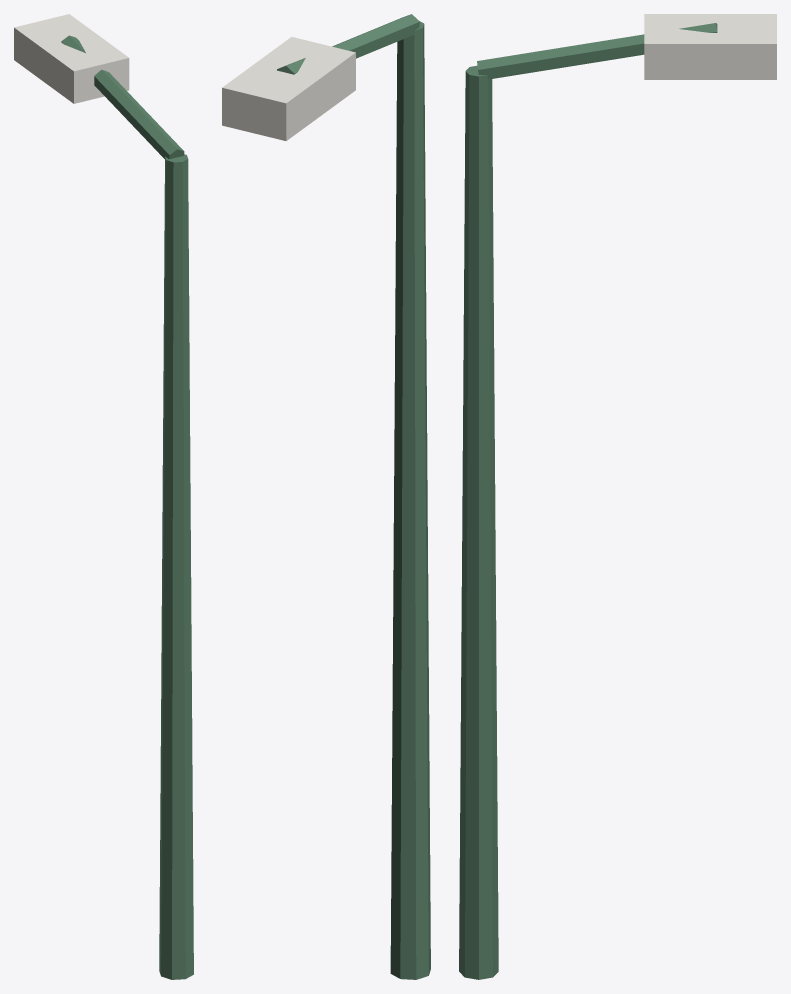
The model's file is LampPost.glb.
3 views of the same model, side by side, from view 1: azimuth 30°, elevation 25°; view 2: azimuth 150°, elevation 25°; view 3: azimuth 270°, elevation 25° (orthographic). The views are drawn at different scales.
Parts seen in each view (by area): view 1: LampPost; view 2: LampPost; view 3: LampPost.
Part boxes in pixels (x1,y1,x2,y2): LampPost: (14,14,193,979); LampPost: (222,14,430,979); LampPost: (459,14,776,979).
Size of the model in its own units: 0.32 by 4.74 by 1.44.
